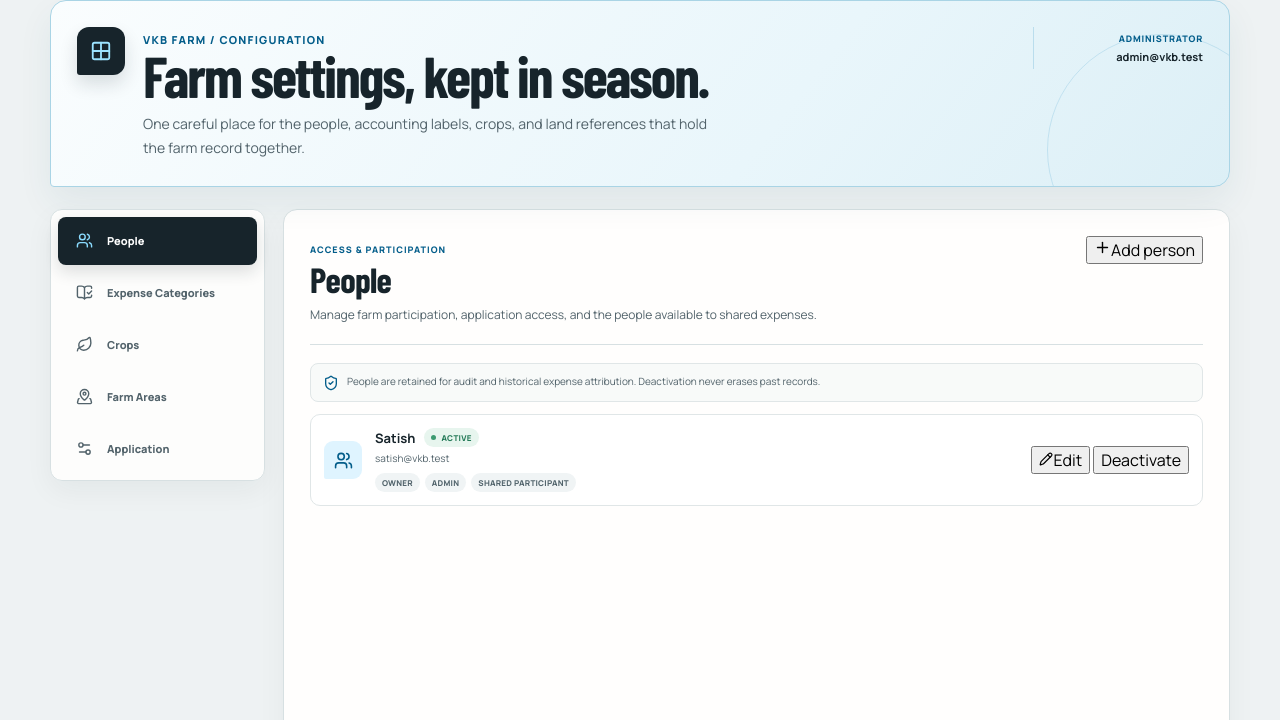
Test: SettingsPage › surfaces a failed reactivation and leaves the inactive record available to retry
Click the button "Expense Categories": click(158, 293) [58, 269, 257, 317]
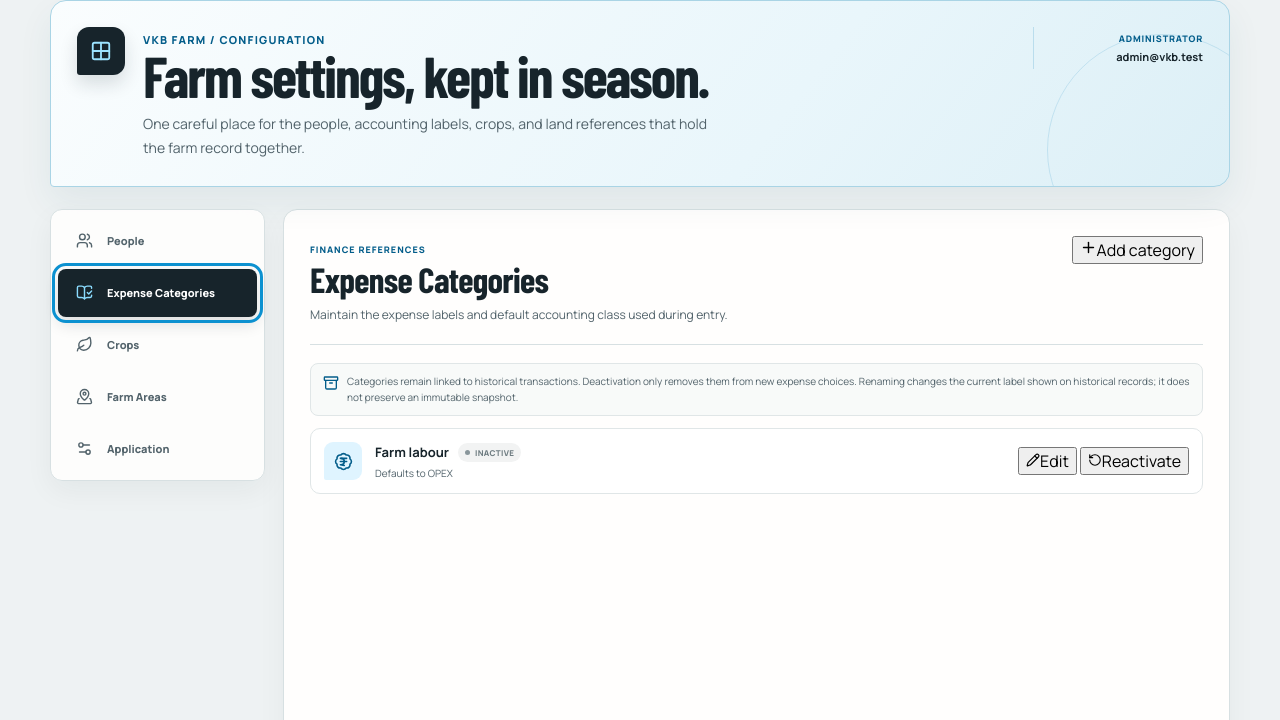
Click the button with aria-label "Reactivate Farm labour": click(1134, 461) [1080, 447, 1189, 475]
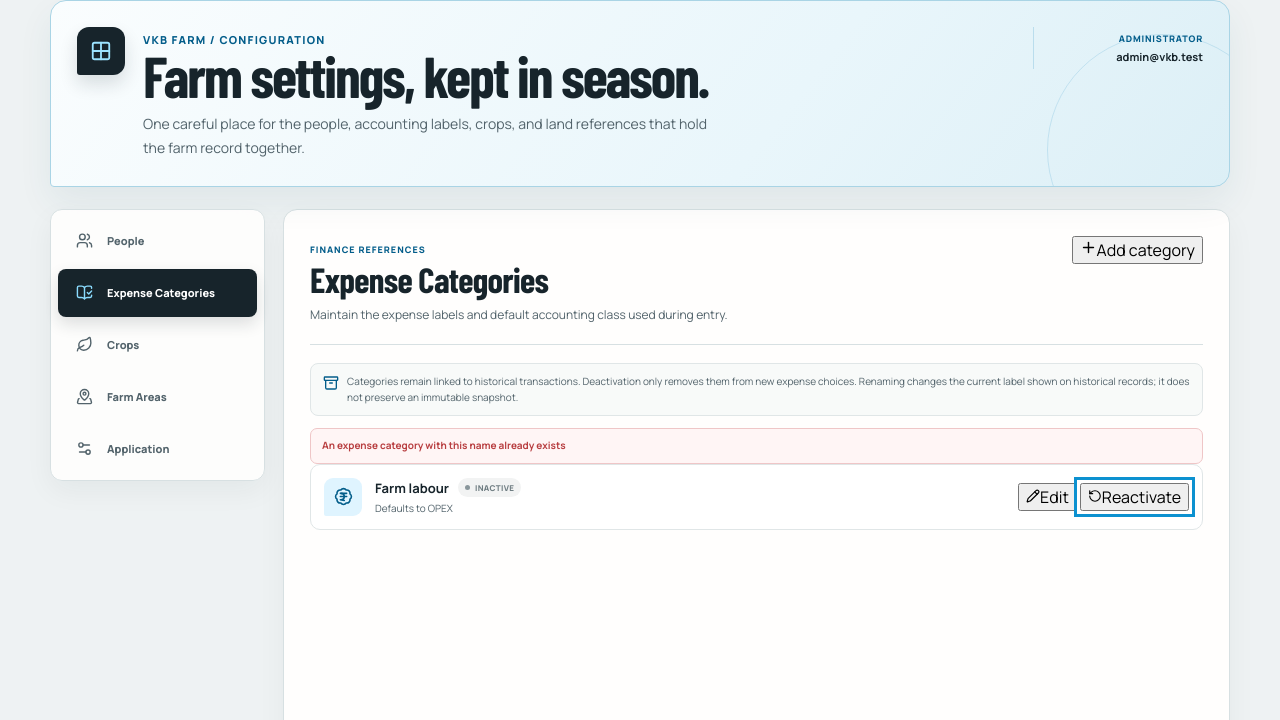
Expected: the button with aria-label "Reactivate Farm labour" is enabled, [1080, 483, 1189, 511]
Expected: the message reads "An expense category with this name already exists", [322, 438, 566, 452]
